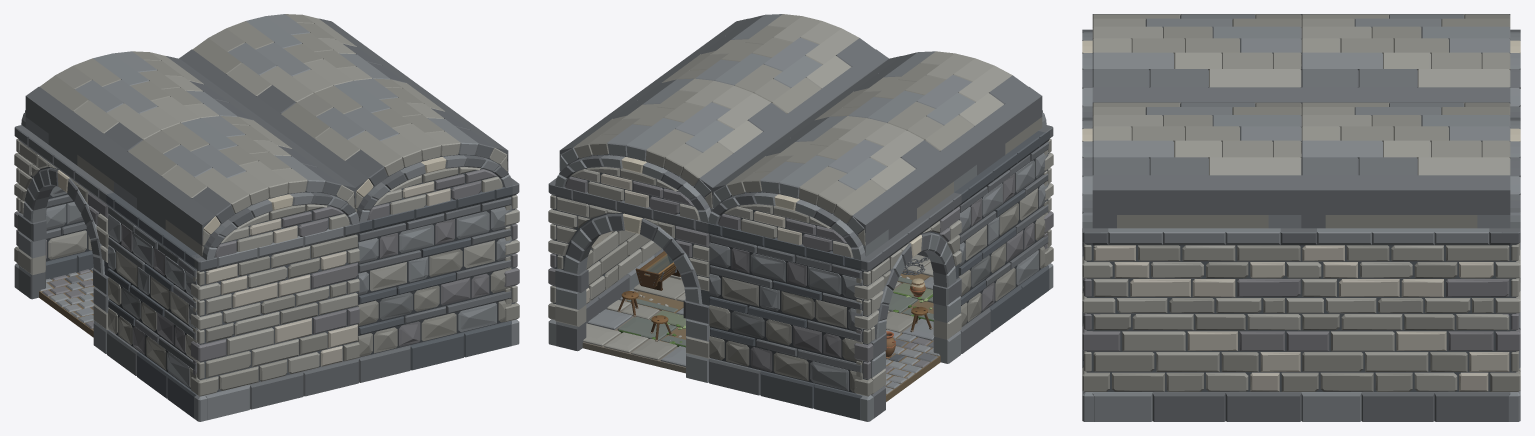
The model's file is SM_LPD_Room_wellchamber.fbx.
The picture shows the model from 3 angles, left to right: view 1: azimuth 30°, elevation 25°; view 2: azimuth 150°, elevation 25°; view 3: azimuth 270°, elevation 25°; orthographic projection. The views are drawn at different scales.
Visible parts, largest first — view 1: SM_LPD_Struct_WallAshlar_01.003, SM_LPD_Struct_WallCoursed_01.003, SM_LPD_Struct_CeilVault_01.001, SM_LPD_Struct_CeilVault_01.003, SM_LPD_Struct_CeilVault_01.002, SM_LPD_Struct_WallCoursed_01.002, SM_LPD_Struct_CeilVault_01.004, SM_LPD_Struct_WallArch_01.002, SM_LPD_Struct_Lunette_01.002, SM_LPD_Struct_Lunette_01.004, SM_LPD_Struct_WallCoursed_01.001, SM_LPD_Floor_PavingCobble_01.001 (+3 smaller); view 2: SM_LPD_Struct_WallCoursed_01.001, SM_LPD_Struct_CeilVault_01.003, SM_LPD_Struct_CeilVault_01.001, SM_LPD_Struct_CeilVault_01.004, SM_LPD_Struct_WallCoursed_01.002, SM_LPD_Struct_CeilVault_01.002, SM_LPD_Struct_WallArch_01.001, SM_LPD_Struct_WallArch_01.002, SM_LPD_Floor_PavingFlagstoneWorn_01.002, SM_LPD_Struct_Lunette_01.001, SM_LPD_Struct_Lunette_01.003, SM_LPD_Struct_WallAshlar_01.001 (+6 smaller); view 3: SM_LPD_Struct_WallAshlar_01.001, SM_LPD_Struct_WallAshlar_01.002, SM_LPD_Struct_CeilVault_01.004, SM_LPD_Struct_CeilVault_01.002, SM_LPD_Struct_CeilVault_01.003, SM_LPD_Struct_CeilVault_01.001, SM_LPD_Struct_CornerPostPlain_01.003, SM_LPD_Struct_CornerPostPlain_01.004, SM_LPD_Struct_Lunette_01.003, SM_LPD_Struct_Lunette_01.004, SM_LPD_Struct_Lunette_01.001, SM_LPD_Struct_Lunette_01.002.
Part boxes in pixels (x1,y1,x2,y2): SM_LPD_Struct_WallAshlar_01.003: [205, 223, 359, 419]; SM_LPD_Struct_WallCoursed_01.003: [358, 186, 512, 382]; SM_LPD_Struct_CeilVault_01.001: [114, 116, 355, 256]; SM_LPD_Struct_CeilVault_01.003: [25, 51, 266, 192]; SM_LPD_Struct_CeilVault_01.002: [267, 78, 508, 211]; SM_LPD_Struct_WallCoursed_01.002: [106, 192, 201, 418]; SM_LPD_Struct_CeilVault_01.004: [179, 14, 419, 122]; SM_LPD_Struct_WallArch_01.002: [18, 128, 113, 353]; SM_LPD_Struct_Lunette_01.002: [202, 192, 359, 260]; SM_LPD_Struct_Lunette_01.004: [356, 155, 512, 222]; SM_LPD_Struct_WallCoursed_01.001: [45, 186, 93, 279]; SM_LPD_Floor_PavingCobble_01.001: [39, 268, 94, 337]; SM_LPD_Struct_WallCoursed_01.001: [708, 223, 862, 419]; SM_LPD_Struct_CeilVault_01.003: [712, 116, 953, 256]; SM_LPD_Struct_CeilVault_01.001: [801, 51, 1042, 192]; SM_LPD_Struct_CeilVault_01.004: [559, 78, 800, 211]; SM_LPD_Struct_WallCoursed_01.002: [954, 130, 1049, 353]; SM_LPD_Struct_CeilVault_01.002: [648, 14, 888, 122]; SM_LPD_Struct_WallArch_01.001: [555, 186, 709, 382]; SM_LPD_Struct_WallArch_01.002: [870, 192, 961, 418]; SM_LPD_Floor_PavingFlagstoneWorn_01.002: [582, 277, 685, 373]; SM_LPD_Struct_Lunette_01.001: [708, 192, 865, 260]; SM_LPD_Struct_Lunette_01.003: [555, 155, 711, 222]; SM_LPD_Struct_WallAshlar_01.001: [586, 230, 655, 323]; SM_LPD_Struct_WallAshlar_01.001: [1301, 228, 1510, 421]; SM_LPD_Struct_WallAshlar_01.002: [1092, 228, 1301, 421]; SM_LPD_Struct_CeilVault_01.004: [1301, 102, 1510, 228]; SM_LPD_Struct_CeilVault_01.002: [1092, 102, 1301, 228]; SM_LPD_Struct_CeilVault_01.003: [1301, 14, 1510, 102]; SM_LPD_Struct_CeilVault_01.001: [1092, 14, 1301, 102]; SM_LPD_Struct_CornerPostPlain_01.003: [1082, 228, 1102, 421]; SM_LPD_Struct_CornerPostPlain_01.004: [1500, 228, 1520, 421]; SM_LPD_Struct_Lunette_01.003: [1510, 117, 1520, 228]; SM_LPD_Struct_Lunette_01.004: [1082, 117, 1092, 228]; SM_LPD_Struct_Lunette_01.001: [1510, 29, 1520, 117]; SM_LPD_Struct_Lunette_01.002: [1082, 29, 1092, 117].
Size of the model in its own units: 8.4 by 5.34 by 8.4.
